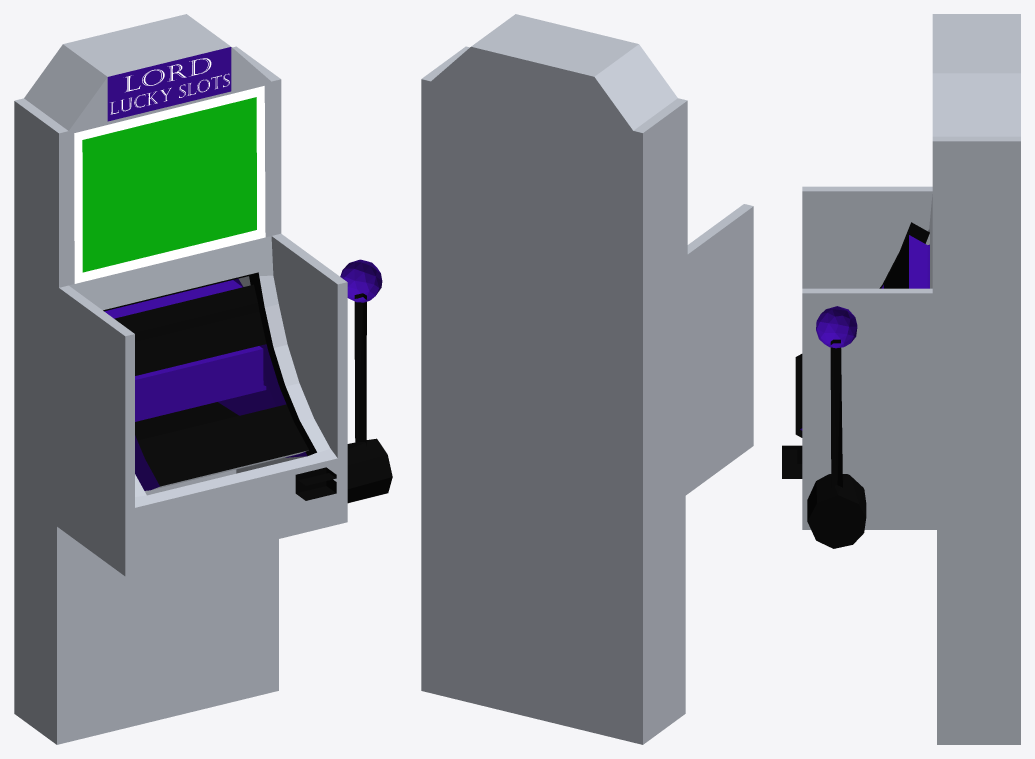
File: Slot Machine - Lord - Battle.glb
3 views of the same model, side by side, from view 1: azimuth 30°, elevation 25°; view 2: azimuth 150°, elevation 25°; view 3: azimuth 270°, elevation 25° (orthographic).
Parts seen in each view (by area): view 1: Slot Machine, Pull Handle, Title; view 2: Slot Machine; view 3: Slot Machine, Pull Handle.
Part boxes in pixels (x1=…): Slot Machine: x1=14, y1=14, x2=347, y2=744; Pull Handle: x1=340, y1=259, x2=392, y2=503; Title: x1=110, y1=58, x2=229, y2=114; Slot Machine: x1=421, y1=14, x2=753, y2=744; Slot Machine: x1=782, y1=14, x2=1020, y2=744; Pull Handle: x1=807, y1=306, x2=866, y2=548.
Size of what is drawn, in the model's own units: 0.8369 by 1.94 by 0.6478.
